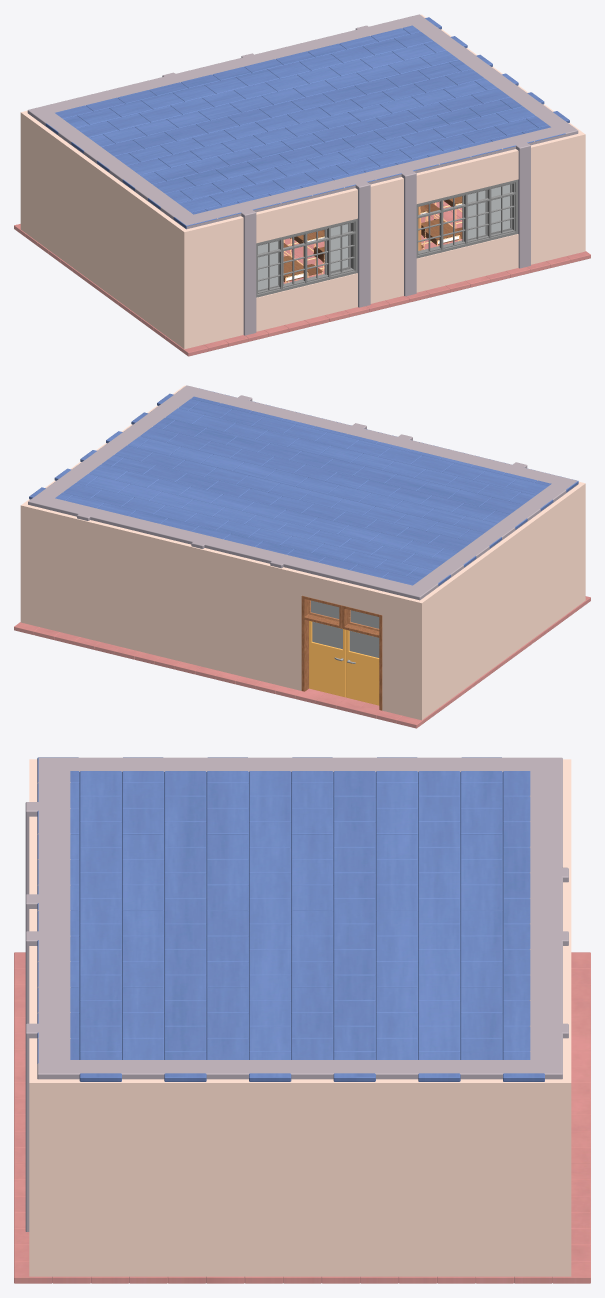
File: classroom_alternative.glb
3 renders of one model, top to bottom at view 1: azimuth 30°, elevation 25°; view 2: azimuth 150°, elevation 25°; view 3: azimuth 270°, elevation 25°, orthographic. The views are drawn at different scales.
Visible parts, largest first — view 1: Plane.001, Plane.002, Cube, Plane, Cube.014, Cube.004, Cube.007, Cube.017, Cube.019, Cube.011, Plane.197; view 2: Plane.001, Plane.002, Cube, Plane, Plane.164, Plane.159, Plane.163, Plane.160, Plane.158, Plane.161; view 3: Plane.002, Plane.001, Cube, Plane.
Part boxes in pixels (x1,y1,x2,y2): Plane.001: (20, 14, 585, 349); Plane.002: (45, 17, 569, 228); Cube: (27, 14, 578, 335); Plane: (14, 201, 590, 356); Cube.014: (416, 179, 517, 258); Cube.004: (256, 218, 357, 297); Cube.007: (258, 241, 278, 289); Cube.017: (467, 190, 485, 238); Cube.019: (491, 184, 509, 232); Cube.011: (330, 224, 348, 270); Plane.197: (421, 218, 460, 244); Plane.001: (20, 385, 585, 720); Plane.002: (29, 388, 578, 585); Cube: (28, 385, 578, 600); Plane: (14, 596, 590, 728); Plane.164: (301, 595, 382, 710); Plane.159: (309, 621, 345, 697); Plane.163: (346, 630, 379, 705); Plane.160: (311, 600, 379, 628); Plane.158: (312, 621, 342, 649); Plane.161: (349, 631, 379, 657); Plane.002: (37, 757, 544, 1081); Plane.001: (29, 759, 571, 1276); Cube: (25, 757, 568, 1231); Plane: (14, 952, 590, 1283).
Bounding box in the file's own units: 36.36 × 10.72 × 27.27.
44 materials, 8 textured.
